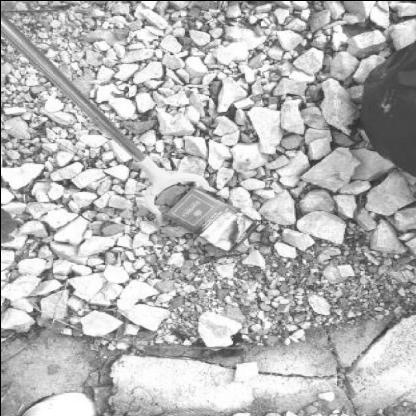objects: (165, 186, 258, 252)
